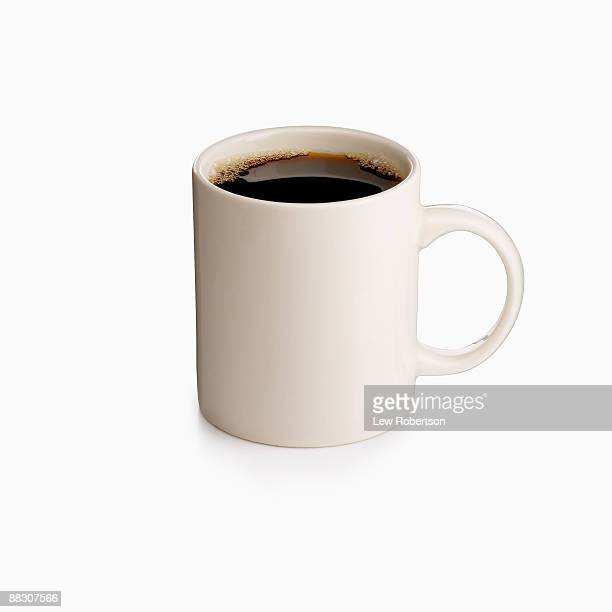cup: (185, 113, 526, 452)
